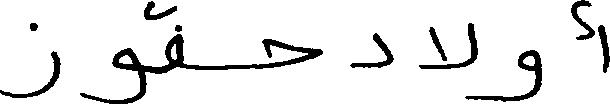X: (0, 18, 59, 102), (421, 18, 474, 103), (476, 35, 539, 103), (82, 43, 143, 103), (573, 0, 609, 77), (264, 34, 318, 72), (352, 28, 391, 72), (166, 1, 181, 77)
